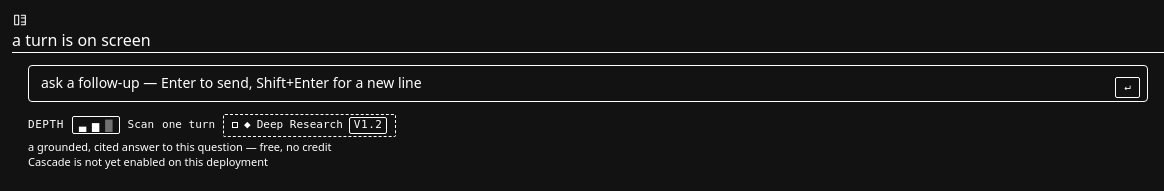
TemplateLibrary: degradations › a server without the D-UX-1 fields still prefills -- the question IS the template
Click the button named "template library" at (20, 20), box [12,12,28,28]
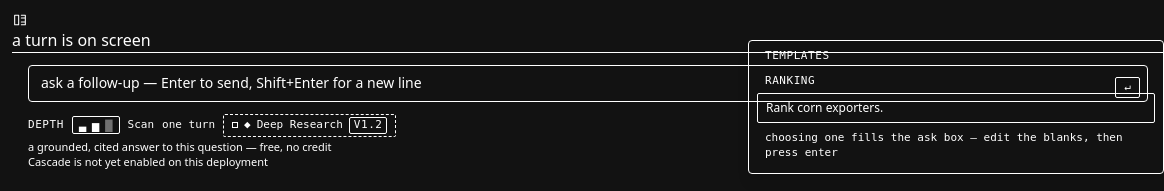
Click the button with test id "template-row-x" at (825, 107), box [757,93,1155,123]
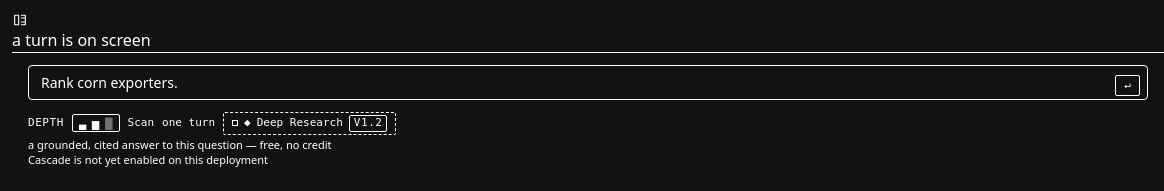
Now the text box with test id "composer" holds "Rank corn exporters.", box [28,65,1148,100]
